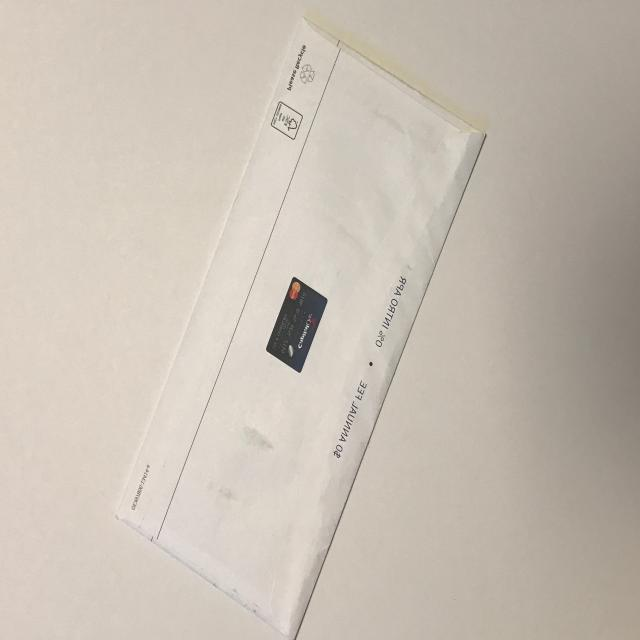paper: (98, 2, 497, 640)
